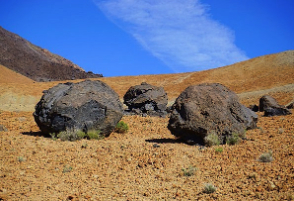stone: (30, 76, 128, 144), (165, 79, 260, 147), (121, 79, 170, 117)
